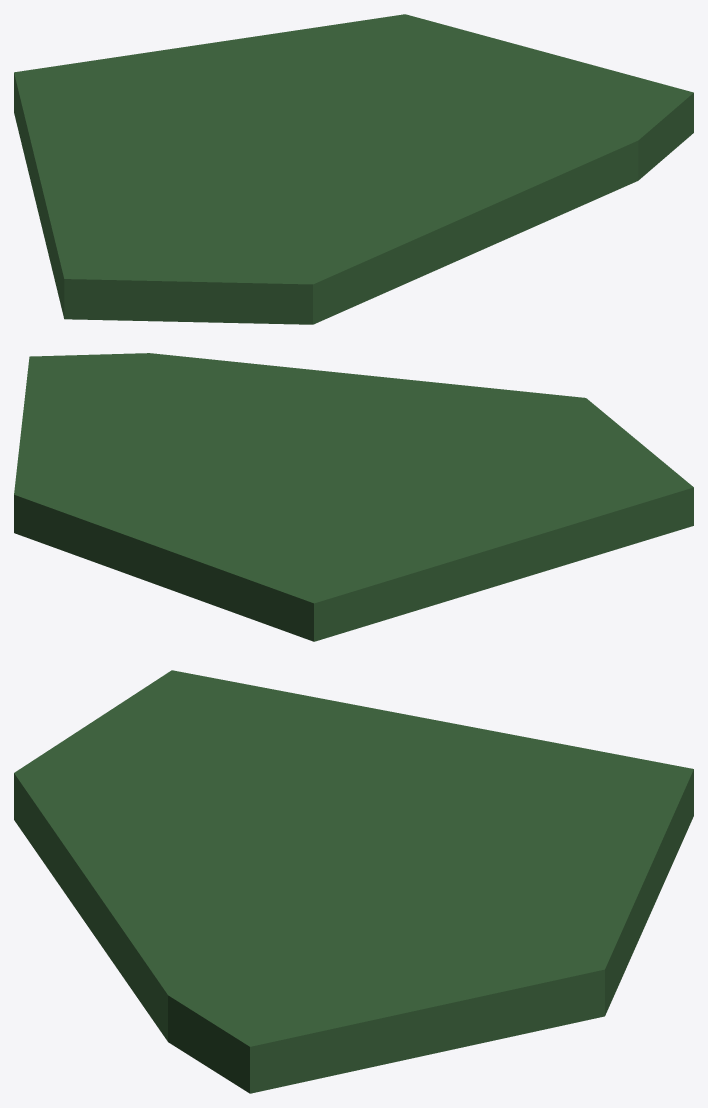
File: x_proval_00_131_1_rmstrd.fbx
3 renders of one model, top to bottom at view 1: azimuth 30°, elevation 25°; view 2: azimuth 150°, elevation 25°; view 3: azimuth 270°, elevation 25°, orthographic. The views are drawn at different scales.
Parts seen in each view (by area): view 1: x_proval_00_131_1_rmstrd1; view 2: x_proval_00_131_1_rmstrd1; view 3: x_proval_00_131_1_rmstrd1.
Part boxes in pixels (left/top/right/bottom): x_proval_00_131_1_rmstrd1: left=14, top=14, right=693, bottom=324; x_proval_00_131_1_rmstrd1: left=14, top=353, right=693, bottom=641; x_proval_00_131_1_rmstrd1: left=14, top=670, right=693, bottom=1093.
Size of the model in its own units: 3.44 by 0.2 by 2.63.
